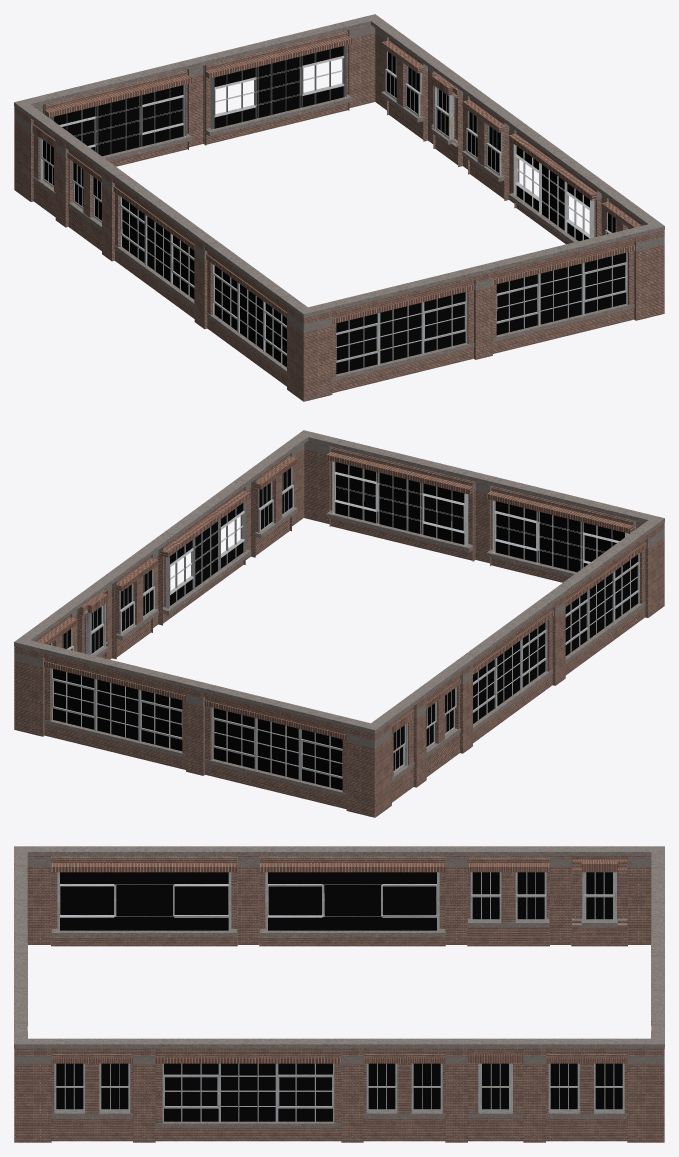
Rendered from BuildingE_Top_Shell_VarA.fbx.
3 renders of one model, top to bottom at view 1: azimuth 30°, elevation 25°; view 2: azimuth 150°, elevation 25°; view 3: azimuth 270°, elevation 25°, orthographic. The views are drawn at different scales.
Visible parts, largest first — view 1: BuildingE_Top_Shell_VarA; view 2: BuildingE_Top_Shell_VarA; view 3: BuildingE_Top_Shell_VarA.
Part boxes in pixels (box(x1,y1,x2,y2)): BuildingE_Top_Shell_VarA: box(14, 14, 664, 401); BuildingE_Top_Shell_VarA: box(14, 430, 664, 817); BuildingE_Top_Shell_VarA: box(14, 846, 664, 1142).
Bounding box in the file's own units: 1802 × 418 × 2502.
